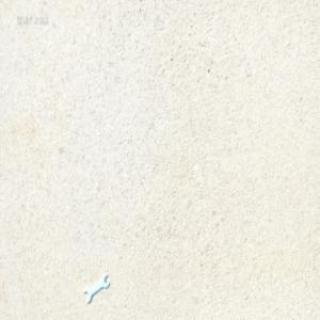Wrenchtrack_idkeyframe: (83, 272, 109, 303)
